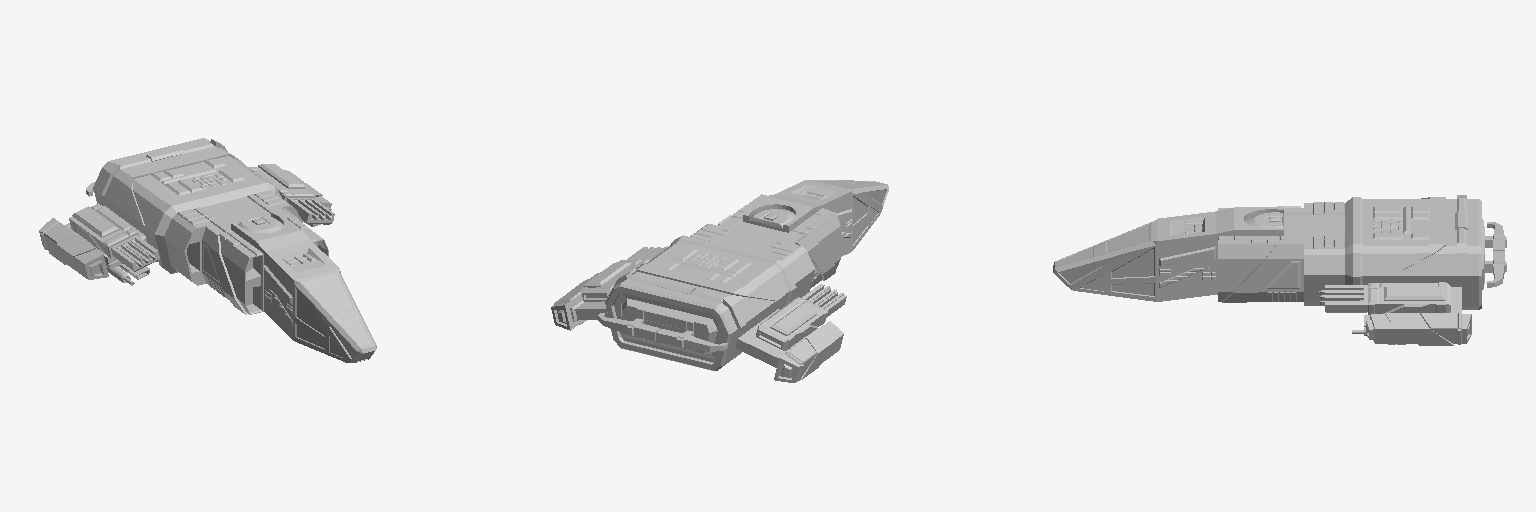
File: Arcturus Scout.obj
The picture shows the model from 3 angles: view 1: azimuth 30°, elevation 25°; view 2: azimuth 150°, elevation 25°; view 3: azimuth 270°, elevation 25°; orthographic projection.
Visible parts, largest first — view 1: Layer_0; view 2: Layer_0; view 3: Layer_0.
Boxes of the visible parts, box(x1,y1,x2,y2) form: Layer_0: box(39, 138, 376, 362); Layer_0: box(551, 180, 888, 382); Layer_0: box(1053, 195, 1506, 345).
Size of the model in its own units: 7 by 2.03 by 11.